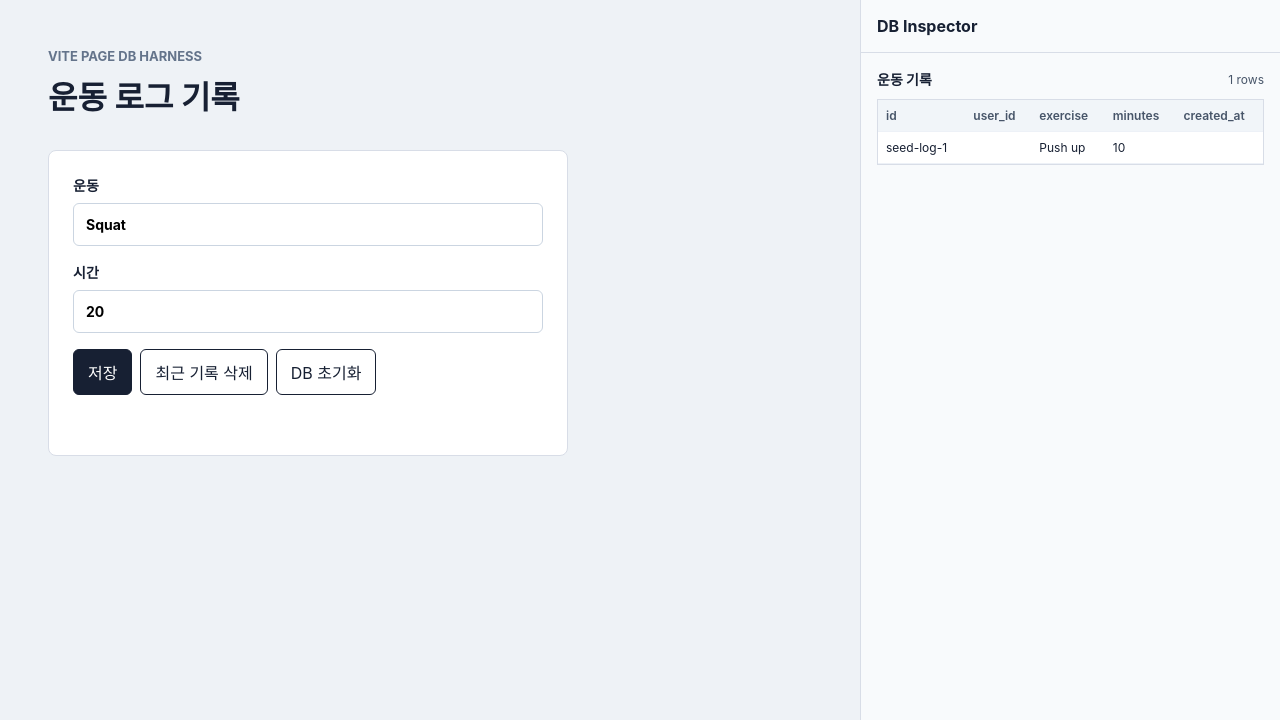
Test: App › shows a delete failure when the backend rejects the mutation
The image size is (1280, 720).
expect the text "Push up" is shown: met, box [1031,132,1105,164]
Click the button "최근 기록 삭제".
click(204, 372)  # box [140,349,268,395]
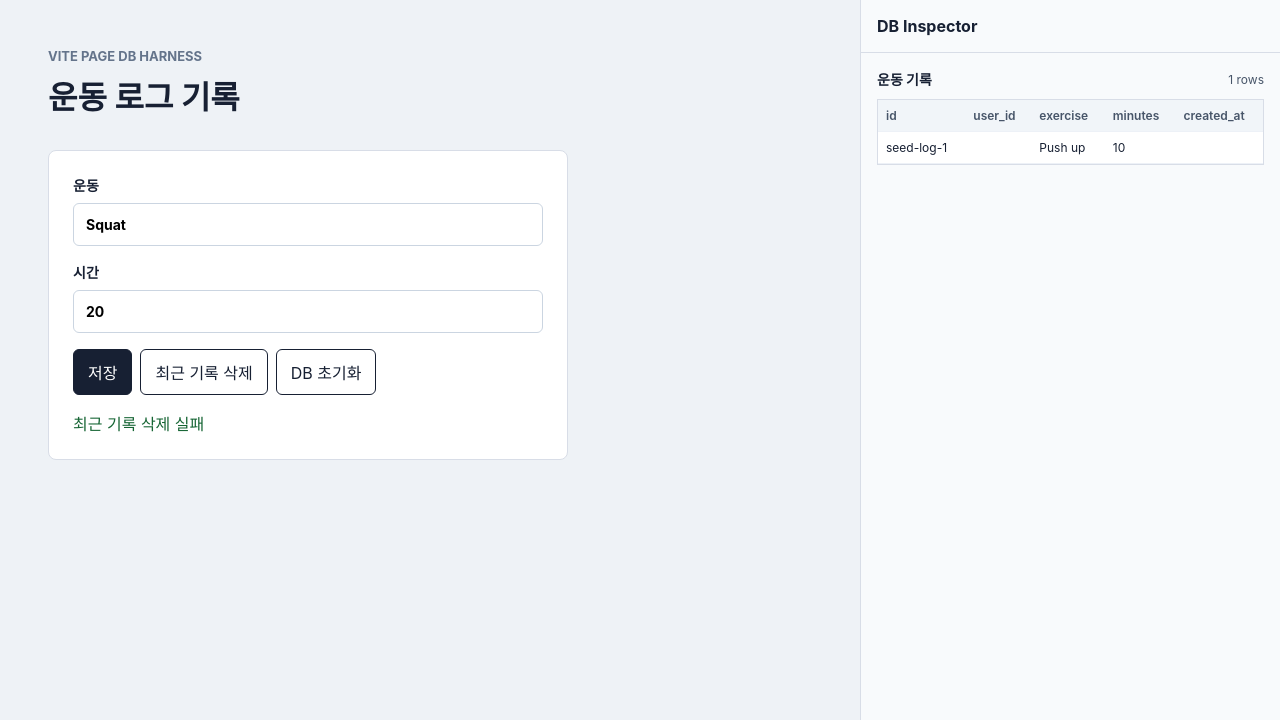
expect the text "Push up" is shown: met, box [1031,132,1105,164]
expect the text "최근 기록 삭제 실패" is shown: met, box [73,414,204,434]
